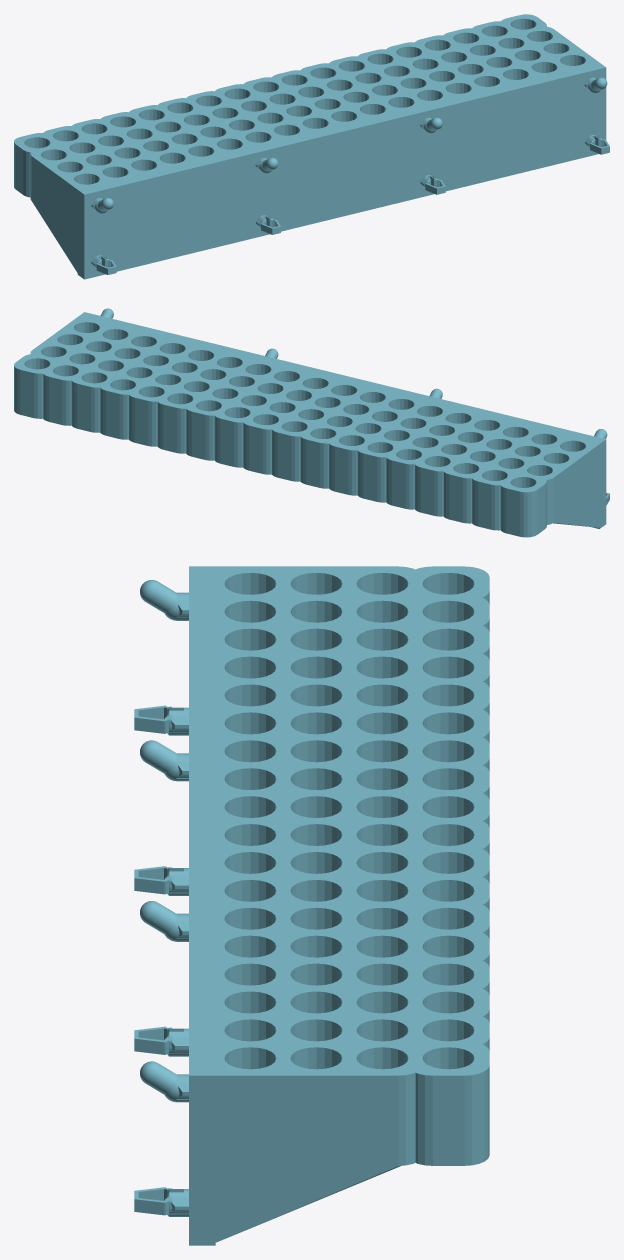
The model's file is part-p09-72__current-mounts-flat-top-v2__fit-pf02c9-hoop5__installed.glb.
3 renders of one model, top to bottom at view 1: azimuth 30°, elevation 25°; view 2: azimuth 150°, elevation 25°; view 3: azimuth 270°, elevation 25°, orthographic. The views are drawn at different scales.
Parts seen in each view (by area): view 1: installed.stl; view 2: installed.stl; view 3: installed.stl.
Boxes of the visible parts, left/top/right/bottom form: installed.stl: left=14, top=14, right=609, bottom=279; installed.stl: left=14, top=308, right=609, bottom=537; installed.stl: left=134, top=566, right=489, bottom=1245.
Size of the model in its own units: 0.2418 by 0.0376 by 0.0713.
